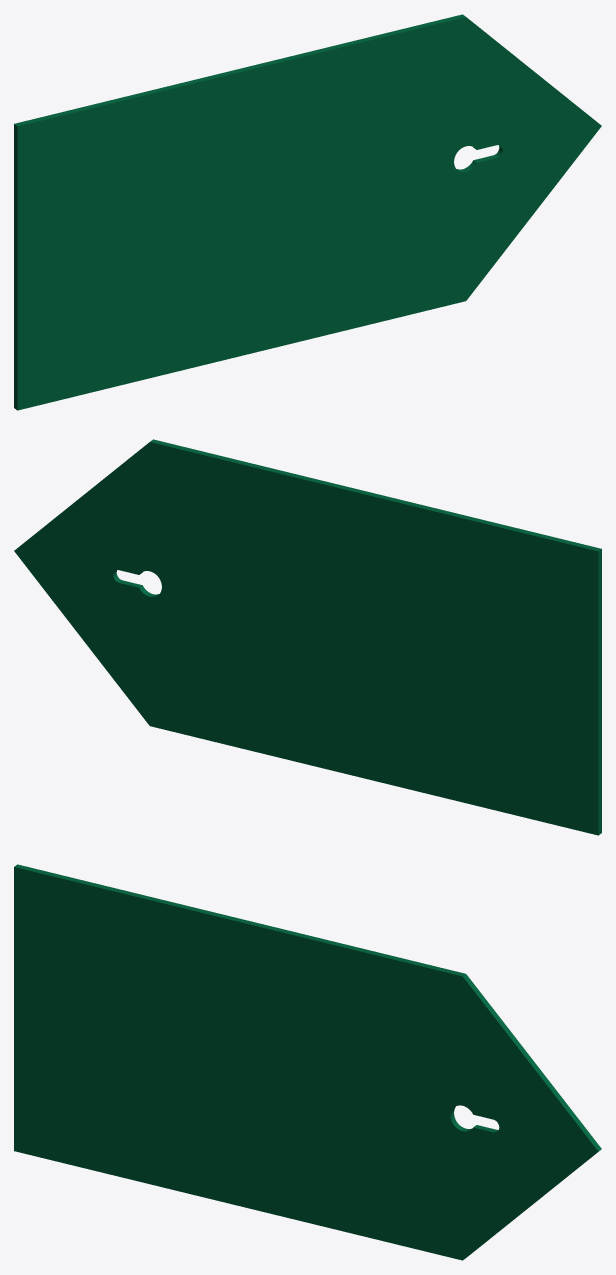
File: dark_green_part.obj
3 views of the same model, one above another, from view 1: azimuth 30°, elevation 25°; view 2: azimuth 150°, elevation 25°; view 3: azimuth 330°, elevation 25° (orthographic).
Visible parts, largest first — view 1: dark_green_part; view 2: dark_green_part; view 3: dark_green_part.
Part boxes in pixels (x1,y1,x2,y2): dark_green_part: (14, 14, 601, 410); dark_green_part: (14, 439, 601, 835); dark_green_part: (14, 864, 601, 1260).
Bounding box in the file's own units: 0.24 × 0.1115 × 0.0025.
Materials: 1 (1 with a texture image).
